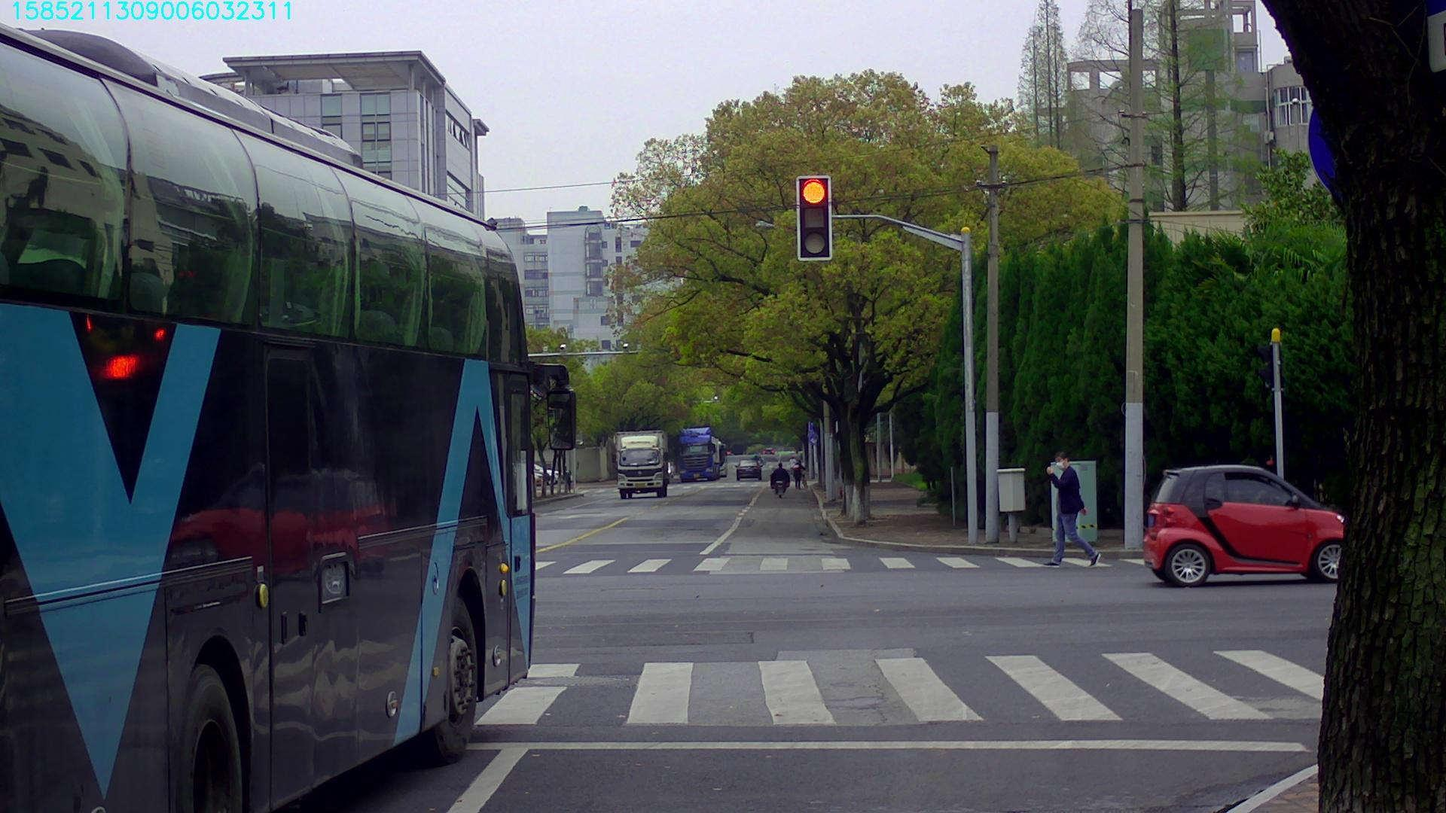red: (797, 177, 831, 259)
